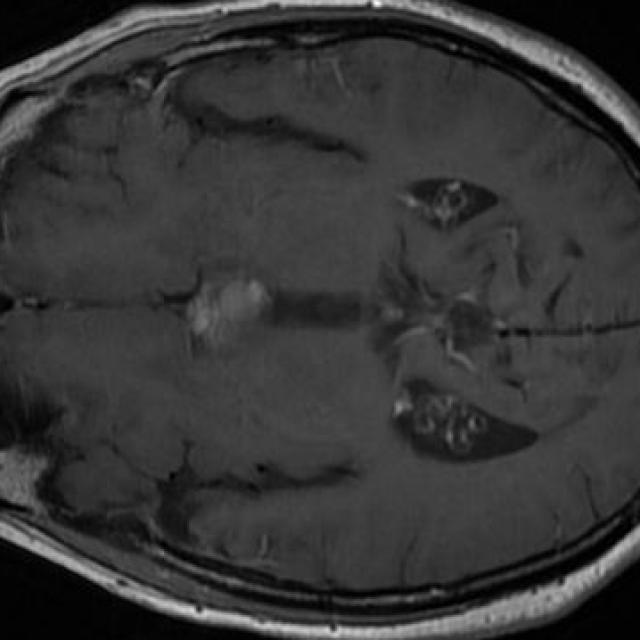pituitary: (185, 280, 271, 351)
